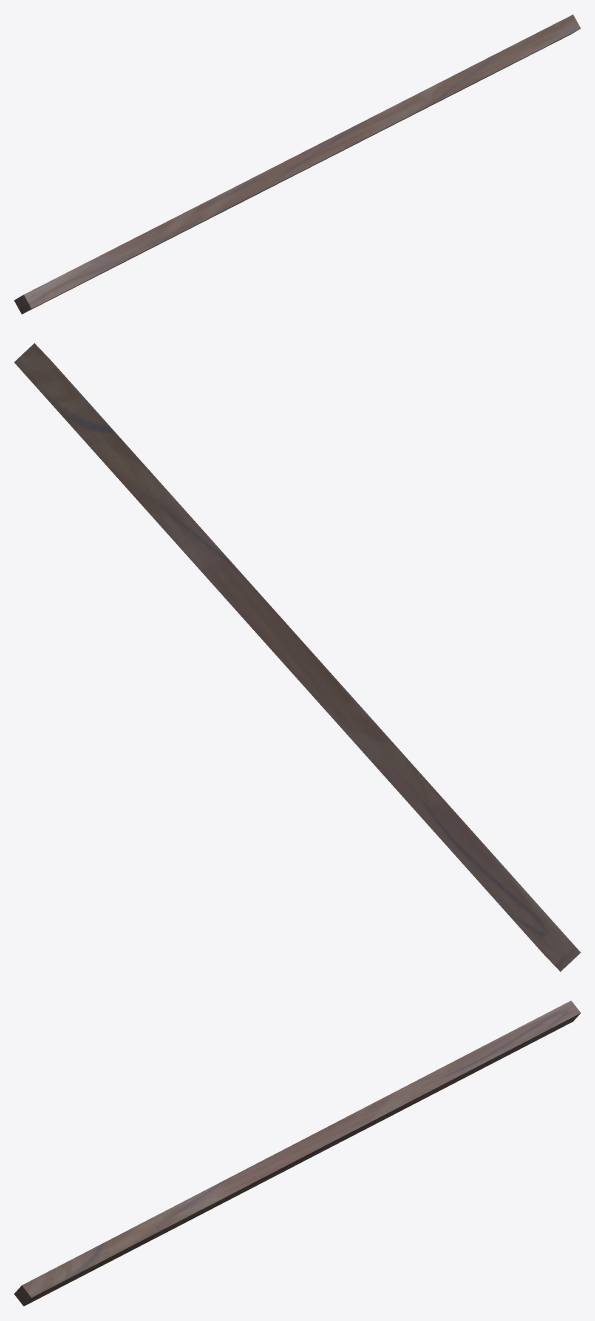
File: stay.fbx
The picture shows the model from 3 angles, top to bottom: view 1: azimuth 90°, elevation 25°; view 2: azimuth 150°, elevation 25°; view 3: azimuth 270°, elevation 25°; orthographic projection. The views are drawn at different scales.
Visible parts, largest first — view 1: stay; view 2: stay; view 3: stay.
Part boxes in pixels (bbox=[...]): stay: bbox=[14, 14, 580, 314]; stay: bbox=[14, 343, 580, 971]; stay: bbox=[14, 1000, 580, 1306].
Bounding box in the file's own units: 215 × 7.96 × 178.
